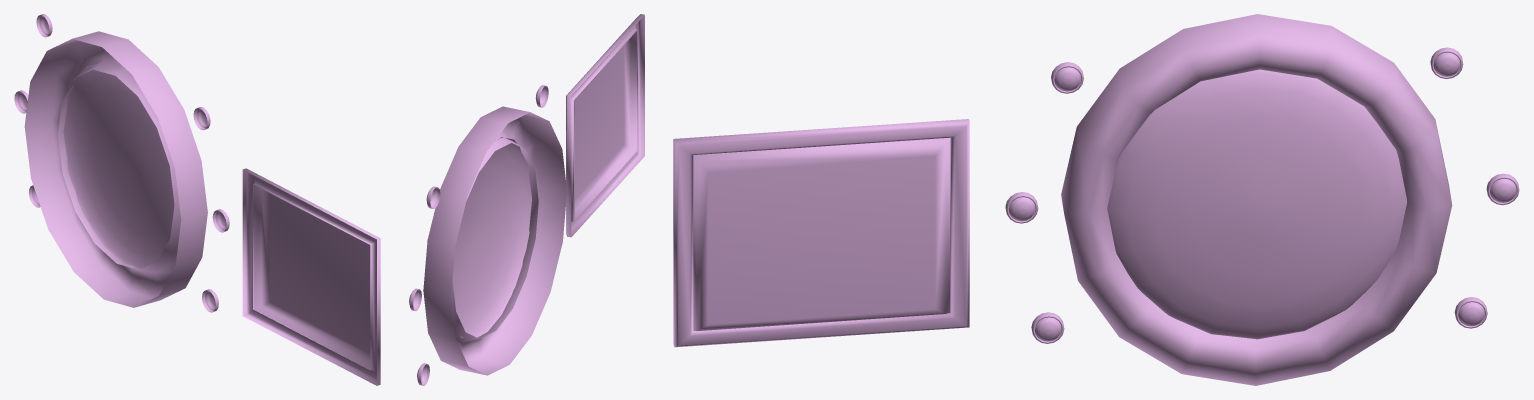
Rendered from B_Metal_Salac.fbx.
3 views of the same model, side by side, from view 1: azimuth 30°, elevation 25°; view 2: azimuth 150°, elevation 25°; view 3: azimuth 270°, elevation 25° (orthographic). The views are drawn at different scales.
Visible parts, largest first — view 1: Gps, Tela_Telao, Moldura_Telao, Botoes, Botoes1, Botoes2; view 2: Gps, Tela_Telao, Moldura_Telao, Botoes3, Botoes, Botoes5, Botoes4; view 3: Gps, Tela_Telao, Moldura_Telao, Botoes4, Botoes1, Botoes2, Botoes3, Botoes5, Botoes.
Boxes of the visible parts, <box> form: Gps: <box>24,31,207,307</box>; Tela_Telao: <box>253,184,371,369</box>; Moldura_Telao: <box>242,168,380,385</box>; Botoes: <box>193,107,210,130</box>; Botoes1: <box>212,209,229,232</box>; Botoes2: <box>202,289,218,312</box>; Gps: <box>423,106,566,375</box>; Tela_Telao: <box>574,31,637,220</box>; Moldura_Telao: <box>566,14,644,237</box>; Botoes3: <box>426,186,440,208</box>; Botoes: <box>535,85,548,107</box>; Botoes5: <box>417,363,429,385</box>; Botoes4: <box>409,288,421,310</box>; Gps: <box>1061,14,1452,385</box>; Tela_Telao: <box>693,137,950,331</box>; Moldura_Telao: <box>673,119,969,347</box>; Botoes4: <box>1486,173,1519,205</box>; Botoes1: <box>1005,192,1038,223</box>; Botoes2: <box>1031,312,1064,343</box>; Botoes3: <box>1430,47,1463,79</box>; Botoes5: <box>1454,297,1487,328</box>; Botoes: <box>1051,62,1083,93</box>.
Bounding box in the file's own units: 15.44 × 43.22 × 93.93.
